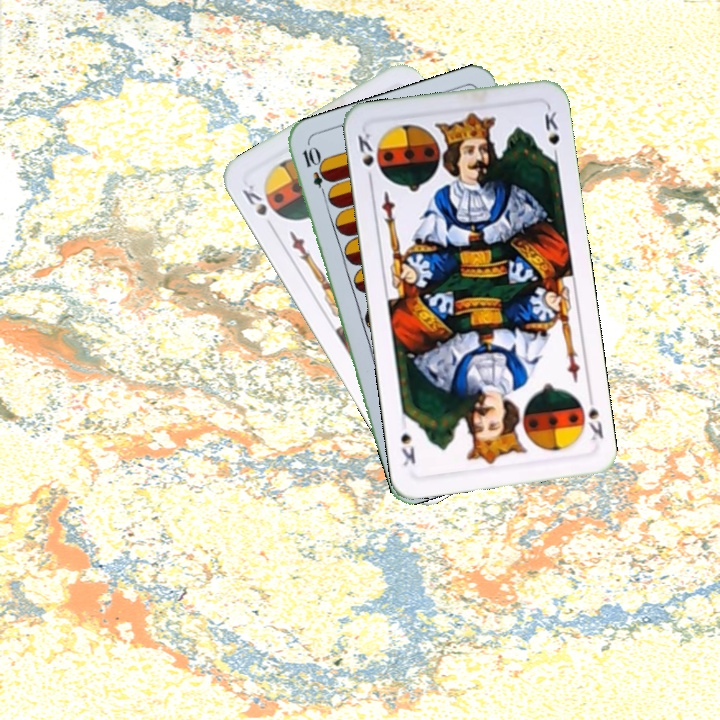E10: (298, 143, 331, 201)
SK: (583, 389, 606, 444), (354, 129, 376, 186), (238, 180, 270, 218)
